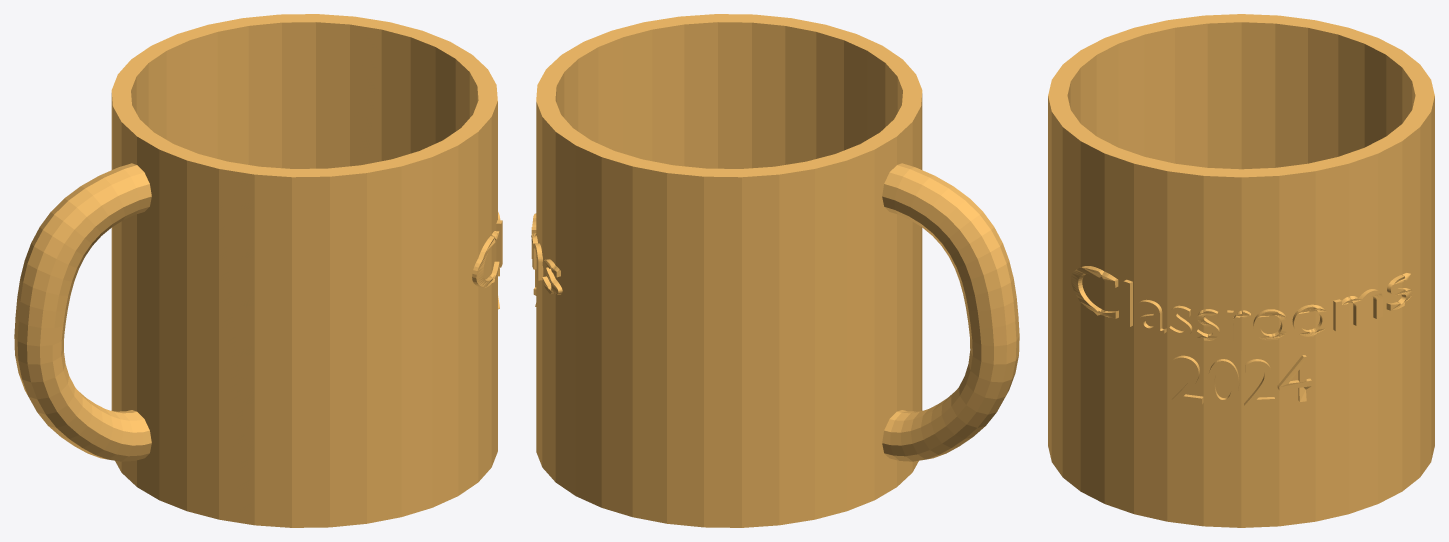
The model's file is coffee mug.fbx.
3 renders of one model, left to right at view 1: azimuth 30°, elevation 25°; view 2: azimuth 150°, elevation 25°; view 3: azimuth 270°, elevation 25°, orthographic.
Parts seen in each view (by area): view 1: Cylinder, Torus.002, Text; view 2: Cylinder, Torus.002, Text; view 3: Cylinder, Text.
Boxes of the visible parts, x1,y1,x2,y2 form: Cylinder: [111, 14, 497, 527]; Torus.002: [14, 163, 151, 461]; Text: [472, 212, 502, 309]; Cylinder: [536, 14, 922, 527]; Torus.002: [882, 163, 1019, 461]; Text: [531, 213, 562, 306]; Cylinder: [1048, 14, 1434, 527]; Text: [1071, 266, 1412, 406].
Size of the model in its own units: 274 by 200 by 200.
